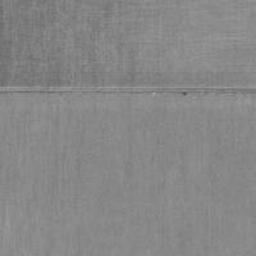Welding line: (0, 86, 256, 95)
